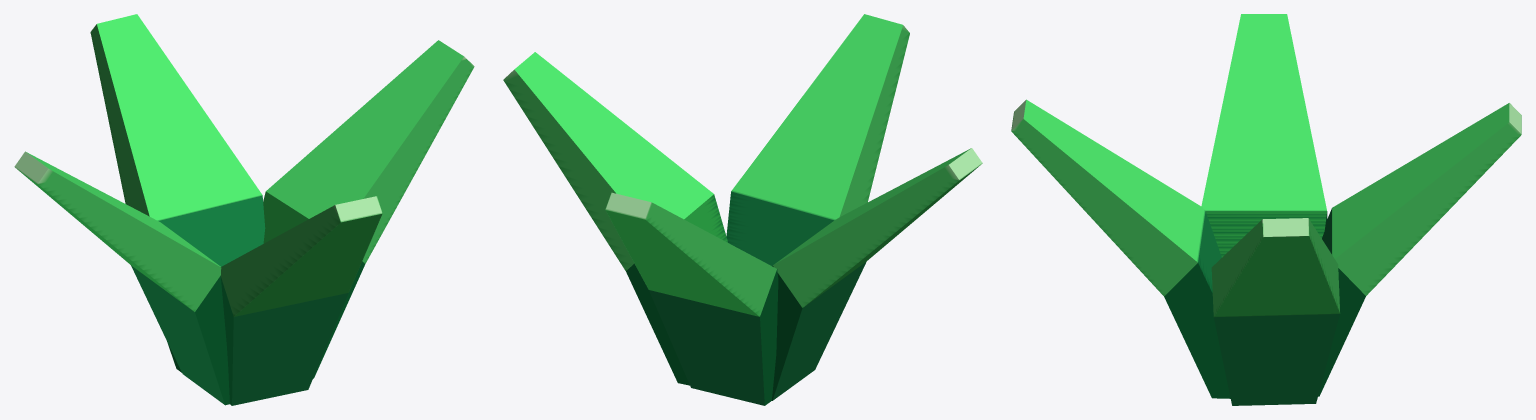
File: GrassTEXTURED.fbx
3 renders of one model, left to right at view 1: azimuth 30°, elevation 25°; view 2: azimuth 150°, elevation 25°; view 3: azimuth 270°, elevation 25°, orthographic.
Visible parts, largest first — view 1: Cube_000; view 2: Cube_000; view 3: Cube_000.
Part boxes in pixels (bbox=[...]): Cube_000: bbox=[14, 14, 474, 405]; Cube_000: bbox=[503, 14, 982, 405]; Cube_000: bbox=[1011, 14, 1521, 405].
Size of the model in its own units: 152 by 87.64 by 152.
1 material, 1 textured.
